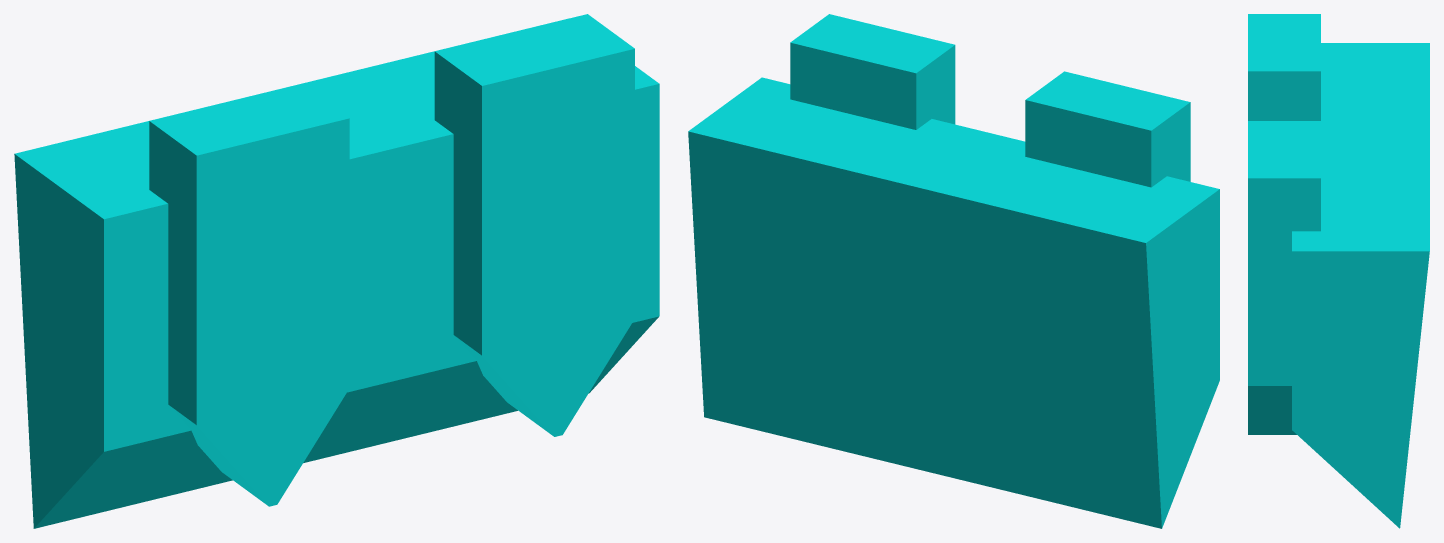
Rendered from SM_Bld_Battlements_Half_01_Collision.fbx.
The picture shows the model from 3 angles, left to right: view 1: azimuth 30°, elevation 25°; view 2: azimuth 150°, elevation 25°; view 3: azimuth 270°, elevation 25°; orthographic projection. The views are drawn at different scales.
Visible parts, largest first — view 1: SM_Bld_Battlements_Half_01_Collision; view 2: SM_Bld_Battlements_Half_01_Collision; view 3: SM_Bld_Battlements_Half_01_Collision.
Boxes of the visible parts, bbox=[...] form: SM_Bld_Battlements_Half_01_Collision: bbox=[14, 14, 659, 528]; SM_Bld_Battlements_Half_01_Collision: bbox=[688, 14, 1219, 528]; SM_Bld_Battlements_Half_01_Collision: bbox=[1248, 14, 1429, 528].
Size of the model in its own units: 250 by 185 by 92.1.
